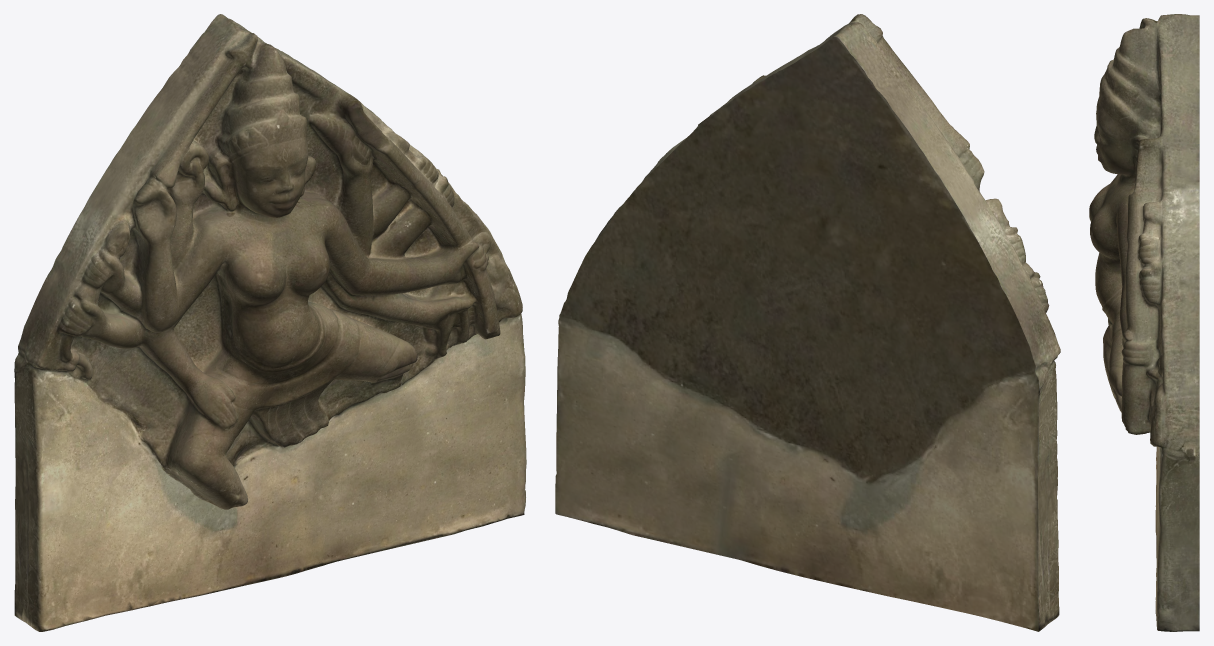
File: 10_durga_final.glb
The picture shows the model from 3 angles, left to right: view 1: azimuth 30°, elevation 25°; view 2: azimuth 150°, elevation 25°; view 3: azimuth 270°, elevation 25°; orthographic projection. The views are drawn at different scales.
Bounding box in the file's own units: 0.837 × 0.9068 × 0.183.
Materials: 1 (1 with a texture image).
